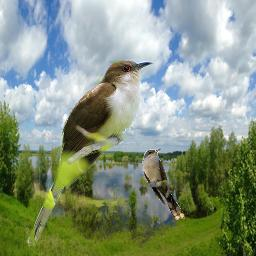Cuckoo: (26, 58, 153, 247), (142, 149, 185, 220)
